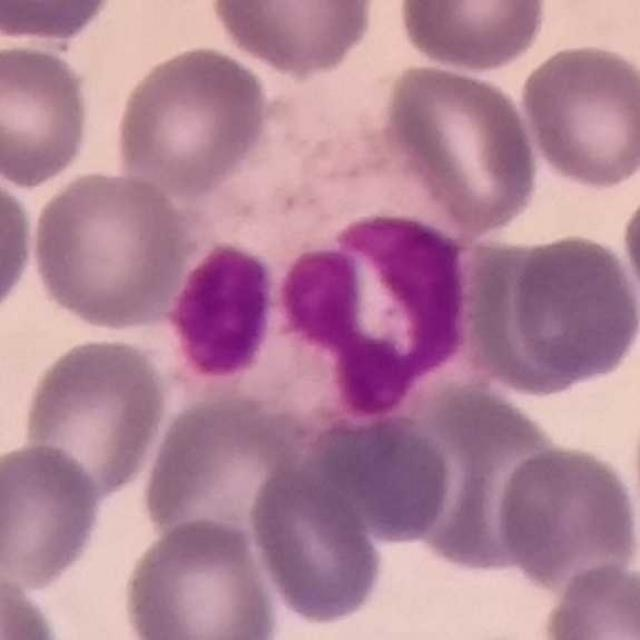Neutrophil: (170, 83, 485, 432)
RBC: (404, 393, 569, 578), (137, 388, 318, 556), (376, 59, 541, 236), (28, 167, 195, 333), (17, 332, 170, 502), (109, 42, 275, 197), (245, 457, 387, 629), (298, 404, 456, 548), (492, 441, 640, 593), (506, 229, 639, 390), (118, 514, 280, 640), (516, 40, 639, 192), (0, 440, 106, 592), (0, 39, 96, 189), (205, 0, 379, 79), (395, 0, 551, 75), (538, 558, 640, 640), (0, 163, 37, 327), (0, 0, 119, 45), (0, 567, 64, 640), (619, 172, 640, 323), (626, 380, 640, 568)
